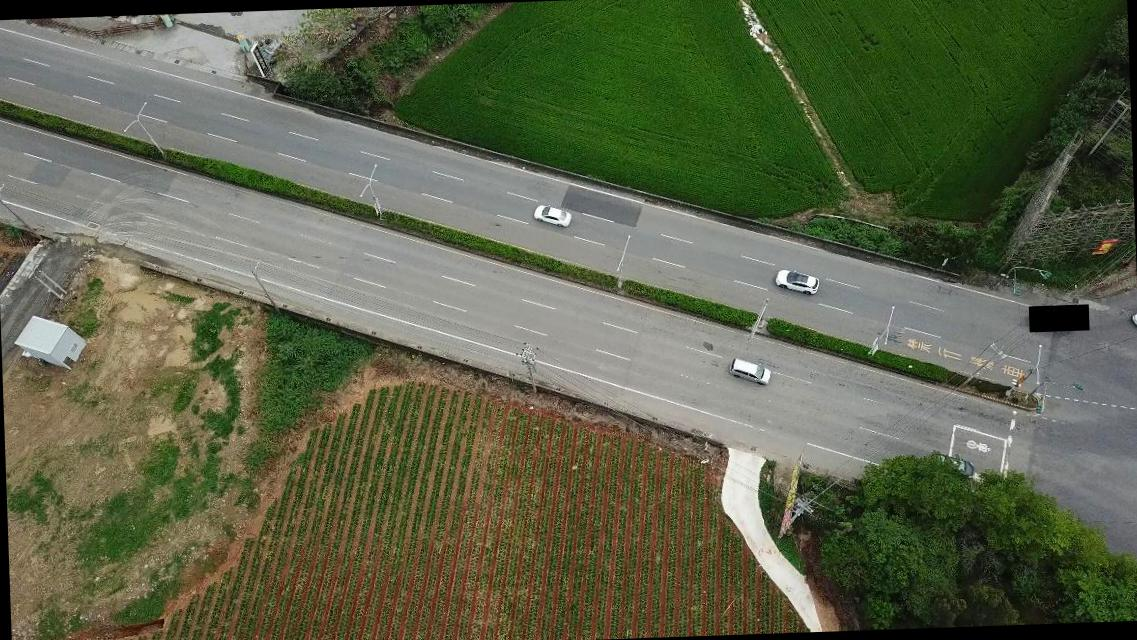vehicle: (771, 265, 820, 297), (928, 452, 974, 479), (532, 200, 572, 230), (730, 356, 770, 386)
